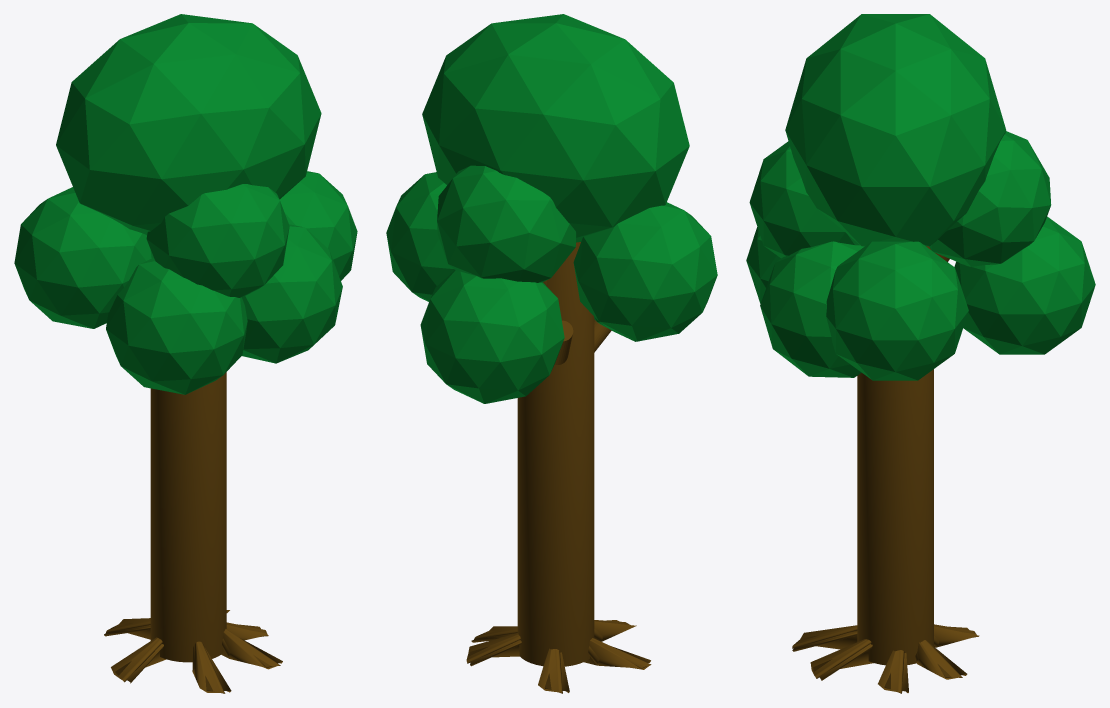
Rendered from Ağaç 2.fbx.
The picture shows the model from 3 angles, left to right: view 1: azimuth 30°, elevation 25°; view 2: azimuth 150°, elevation 25°; view 3: azimuth 270°, elevation 25°; orthographic projection.
Parts seen in each view (by area): view 1: YAPARK, GÖVDE, Icosphere.005, Icosphere.004, Icosphere.003, Icosphere.006, Icosphere.002, KÖK.005, KÖK, KÖK.001, KÖK.003; view 2: YAPARK, GÖVDE, Icosphere, Icosphere.004, Icosphere.001, Icosphere.002, KÖK, KÖK.002, KÖK.003, KÖK.001; view 3: YAPARK, GÖVDE, Icosphere.002, Icosphere, Icosphere.001, Icosphere.006, Icosphere.003, KÖK.005, Icosphere.005, KÖK.001, KÖK.002, KÖK.004 (+1 smaller).
Part boxes in pixels (<box>): YAPARK: <box>56,14,321,234</box>; GÖVDE: <box>150,372,226,662</box>; Icosphere.005: <box>106,258,247,394</box>; Icosphere.004: <box>14,187,153,328</box>; Icosphere.003: <box>146,184,289,297</box>; Icosphere.006: <box>242,224,342,363</box>; Icosphere.002: <box>279,171,357,280</box>; KÖK.005: <box>221,629,282,669</box>; KÖK: <box>111,637,166,683</box>; KÖK.001: <box>192,641,231,693</box>; KÖK.003: <box>104,618,150,639</box>; YAPARK: <box>422,14,689,242</box>; GÖVDE: <box>517,242,594,666</box>; Icosphere: <box>420,270,564,403</box>; Icosphere.004: <box>573,202,717,341</box>; Icosphere.001: <box>437,165,576,282</box>; Icosphere.002: <box>386,172,454,301</box>; KÖK: <box>584,638,651,669</box>; KÖK.002: <box>466,633,521,666</box>; KÖK.003: <box>538,648,569,693</box>; KÖK.001: <box>594,620,636,641</box>; YAPARK: <box>785,14,1006,246</box>; GÖVDE: <box>857,246,933,665</box>; Icosphere.002: <box>826,241,968,380</box>; Icosphere: <box>954,216,1095,354</box>; Icosphere.001: <box>929,131,1051,266</box>; Icosphere.006: <box>760,241,864,377</box>; Icosphere.003: <box>749,141,859,258</box>; KÖK.005: <box>810,639,873,680</box>; Icosphere.005: <box>746,227,780,303</box>; KÖK.001: <box>792,625,857,651</box>; KÖK.002: <box>915,640,967,679</box>; KÖK.004: <box>878,650,908,693</box>.
Bounding box in the file's own units: 61.52 × 118 × 59.1.
